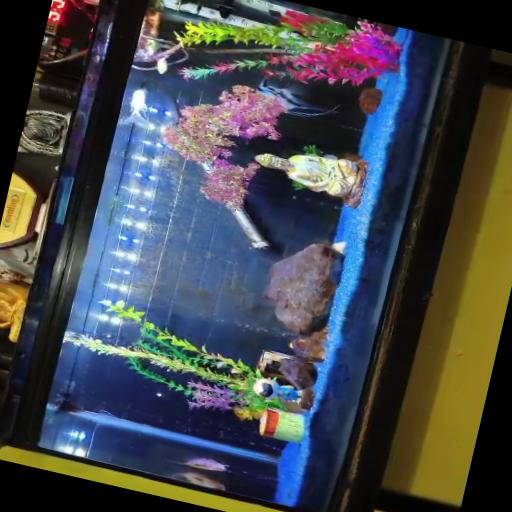Fish: (259, 78, 340, 116), (172, 471, 225, 490), (122, 88, 147, 124), (174, 457, 228, 471), (156, 57, 168, 73)
